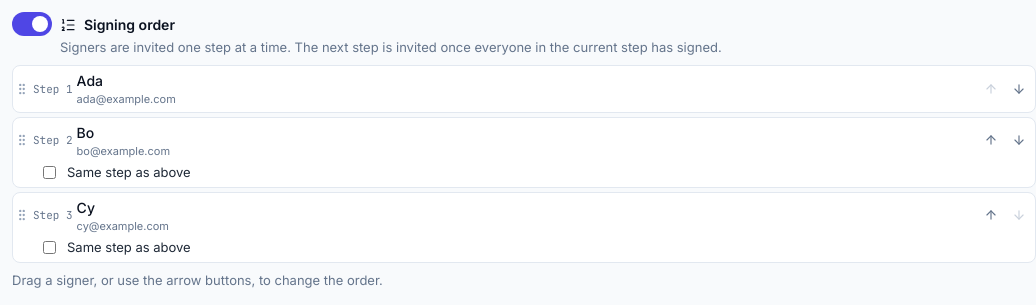
Test: SigningOrderEditor › puts two signers in the same step
The image size is (1036, 305).
Click the checkbox named "Bo signs in the same step as Ada" at (50, 173), box [43, 166, 56, 179]
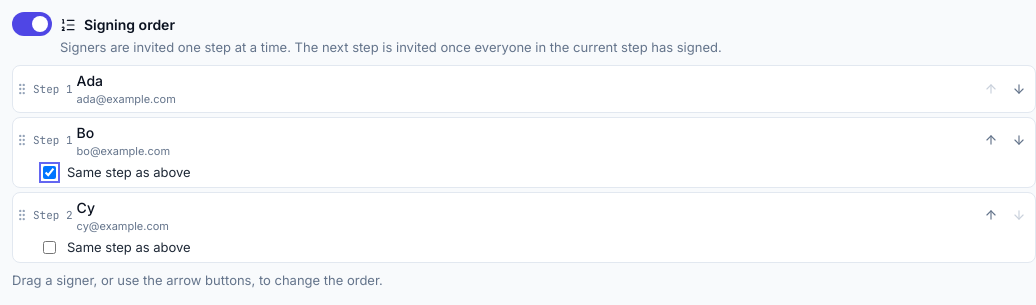
Check: the text "Step 1" is shown 2 times, box [33, 80, 73, 97]; [33, 132, 73, 148]
Check: the text "Step 2" is shown, box [33, 207, 73, 224]
